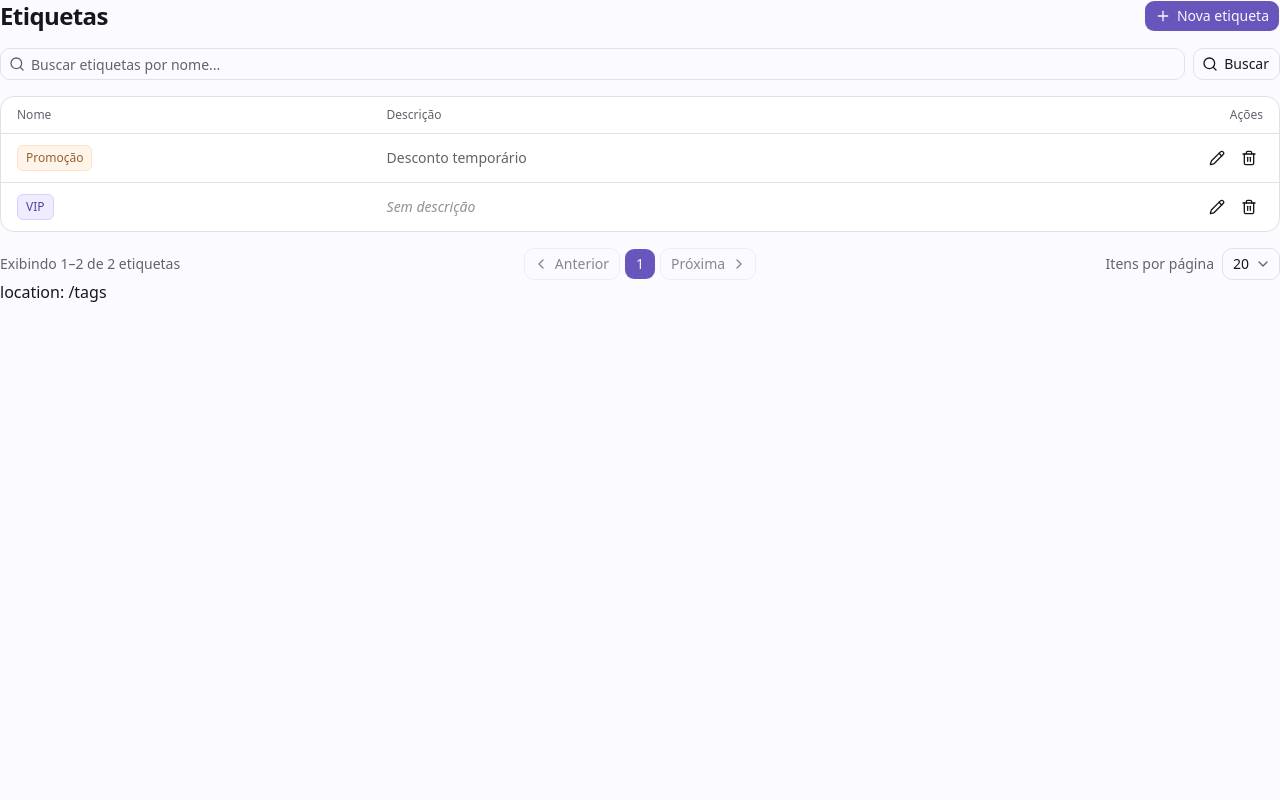
Test: TagFormPage › edit mode (/tags/:id/edit) › opens pre-filled with the fetched tag, titled "Editar etiqueta" (fresh from the backend, not the clicked row)
Expected: the text "Promoção" is shown, [17, 145, 92, 171]
Click the link named "Editar Promoção" at (1217, 158), box [1209, 150, 1225, 166]
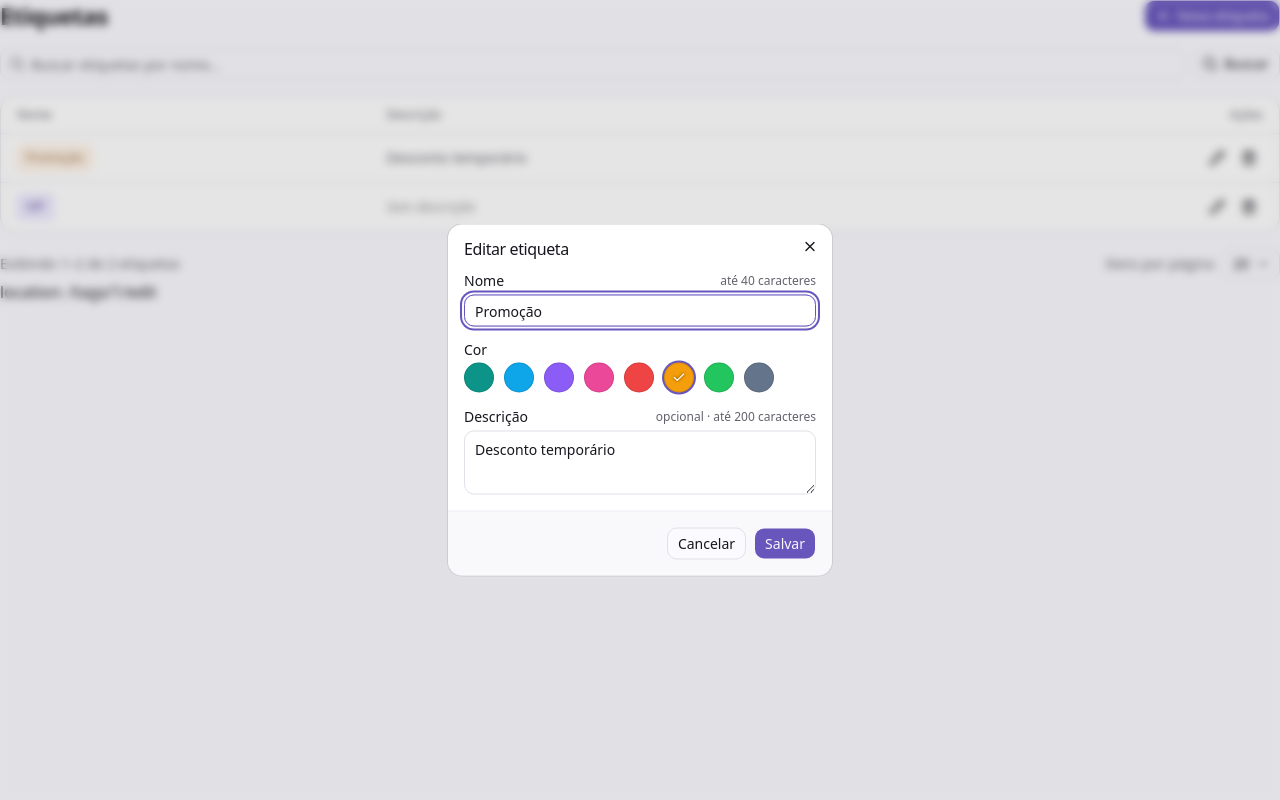
Expected: the heading "Editar etiqueta" is shown, [464, 238, 569, 260]
Expected: the field labelled "Nome" holds "Promoção", [464, 294, 816, 326]
Expected: the text box labelled "Descrição" holds "Desconto temporário", [464, 430, 816, 494]
